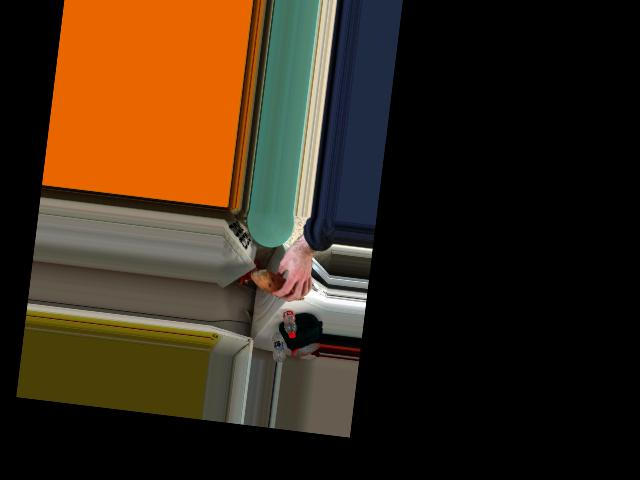sweet_potato: (250, 269, 310, 302)
